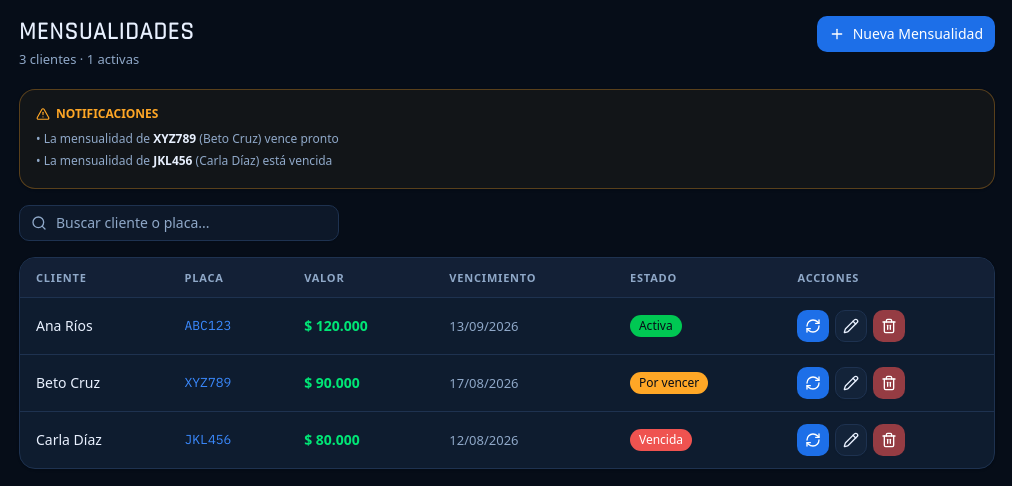
filtra la tabla por cliente o por placa
The width and height of the screenshot is (1012, 486).
Step 1. Type "ana" into the field labelled "Buscar cliente o placa" → (179, 223), box x1=19 y1=205 x2=339 y2=241
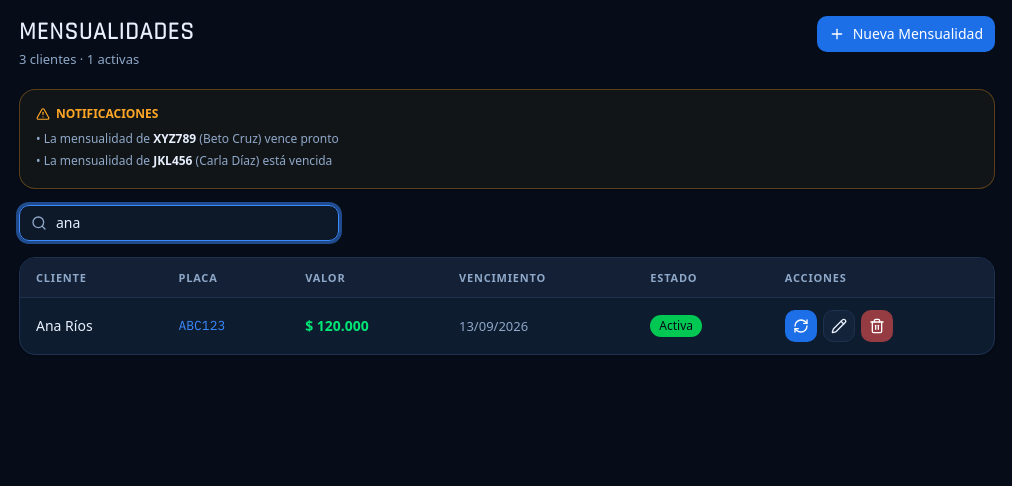
Expected: the text "Ana Ríos" is shown, x1=20 y1=298 x2=162 y2=354
Step 2. Replace the text in the field named "Buscar cliente o placa" with "jkl" → (179, 223), box x1=19 y1=205 x2=339 y2=241
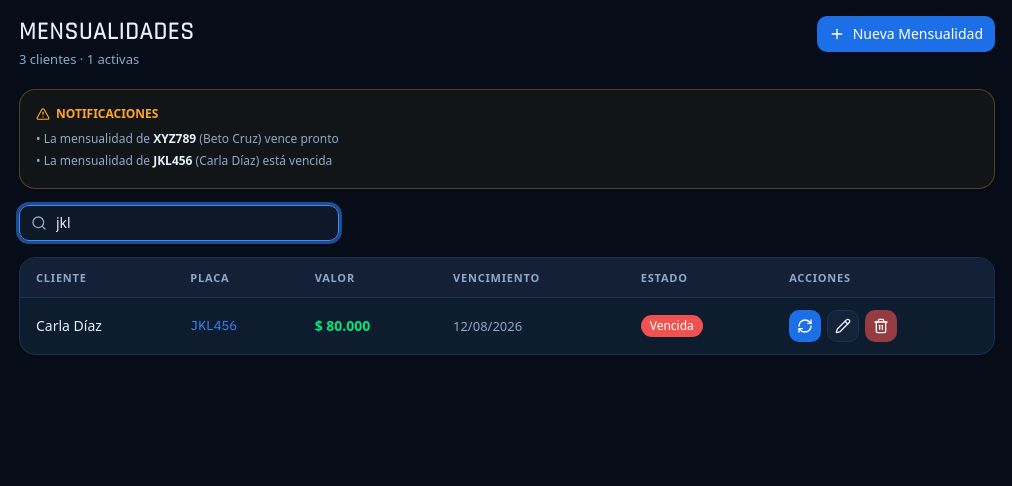
Now the text "Carla Díaz" is shown, box x1=20 y1=298 x2=174 y2=354
Now the text "Ana Ríos" is gone
